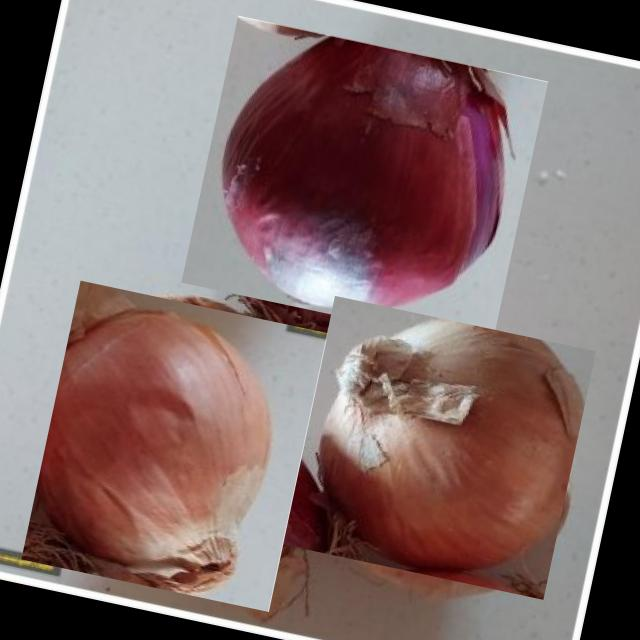Onion: (181, 16, 548, 348), (20, 279, 328, 612), (284, 292, 594, 602)
